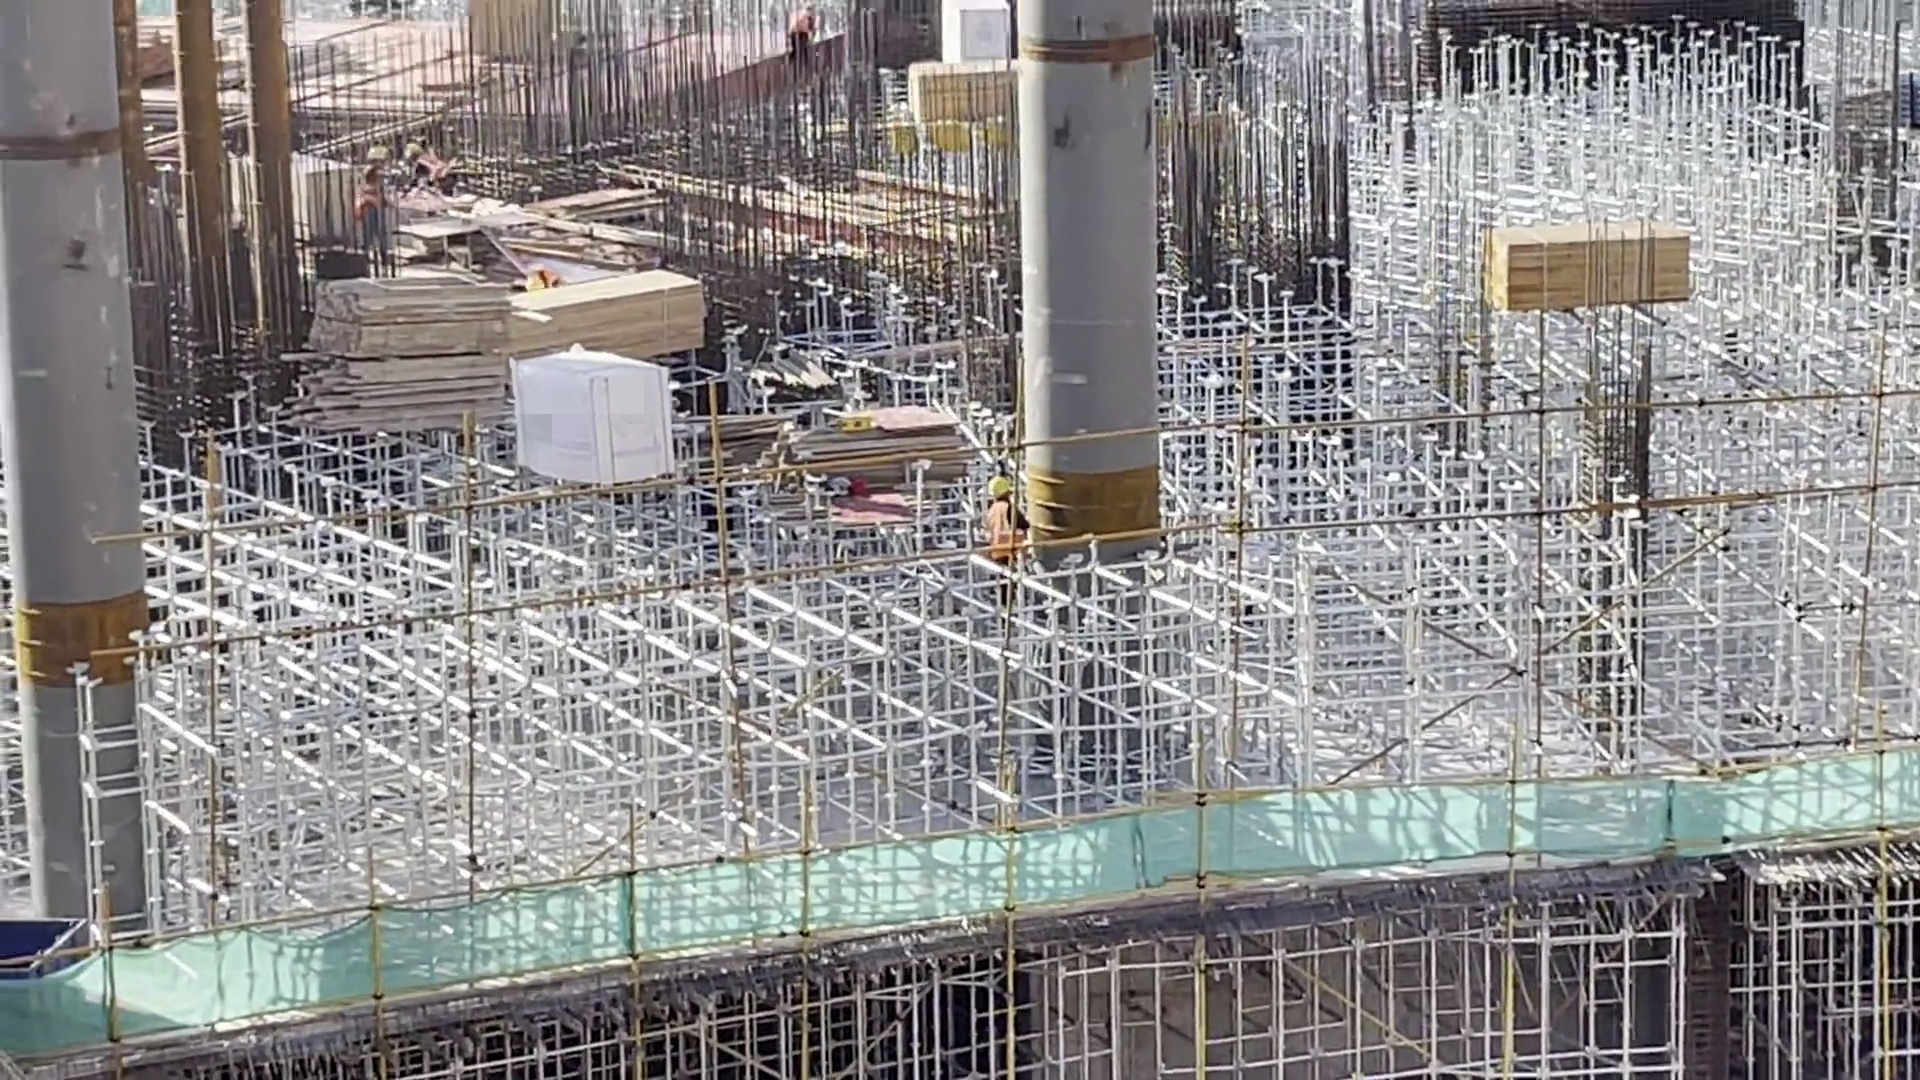board: (784, 398, 977, 489)
person: (400, 143, 455, 196), (356, 145, 392, 212), (524, 266, 560, 291)
vest: (357, 162, 386, 214), (417, 154, 449, 186)
wood: (288, 274, 508, 445), (1484, 217, 1699, 308), (514, 265, 708, 356)
